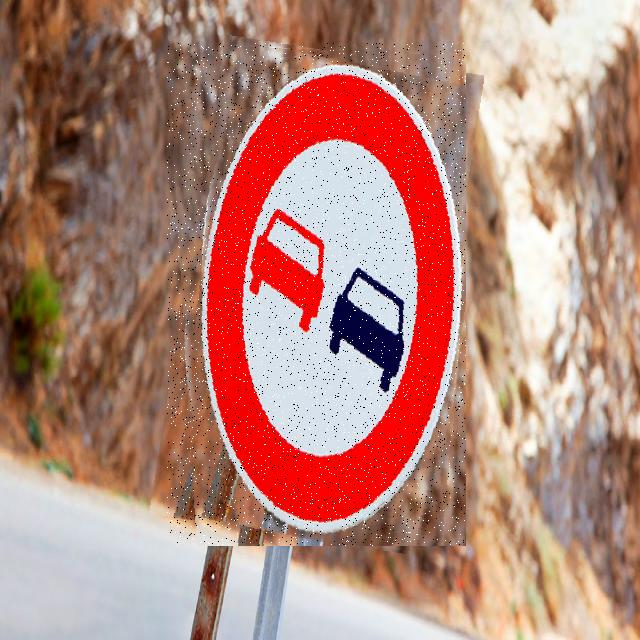no overtaking: (167, 43, 466, 546)
